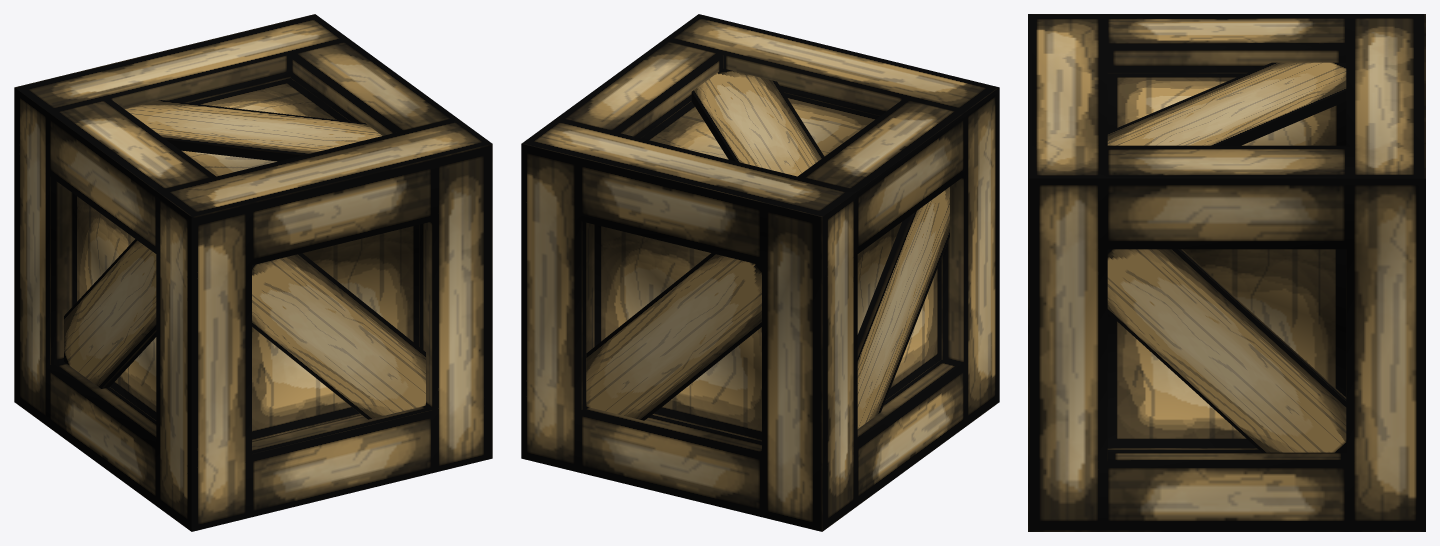
Rendered from Crate.FBX.
The picture shows the model from 3 angles, left to right: view 1: azimuth 30°, elevation 25°; view 2: azimuth 150°, elevation 25°; view 3: azimuth 270°, elevation 25°; orthographic projection. The views are drawn at different scales.
Visible parts, largest first — view 1: Box001, Box003, Box006, Box004; view 2: Box001, Box002, Box004, Box006; view 3: Box001, Box005, Box006.
Part boxes in pixels (x1=…): Box001: x1=14, y1=14, x2=492, y2=531; Box003: x1=252, y1=253, x2=425, y2=419; Box006: x1=124, y1=100, x2=382, y2=161; Box004: x1=64, y1=239, x2=156, y2=388; Box001: x1=521, y1=14, x2=999, y2=531; Box002: x1=586, y1=253, x2=761, y2=420; Box004: x1=857, y1=187, x2=949, y2=428; Box006: x1=691, y1=68, x2=824, y2=176; Box001: x1=1028, y1=14, x2=1425, y2=531; Box005: x1=1107, y1=249, x2=1346, y2=452; Box006: x1=1107, y1=62, x2=1346, y2=145.
Size of the model in its own units: 46.75 by 46.75 by 47.72.
1 material, 1 textured.
